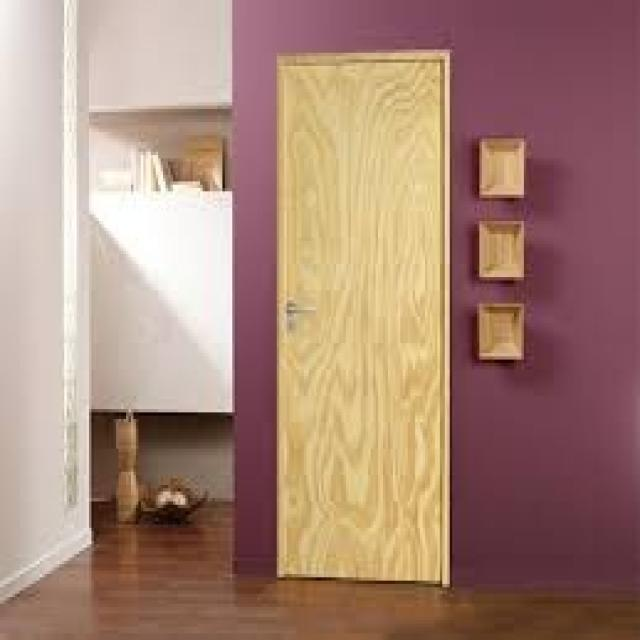door: (275, 50, 451, 587)
